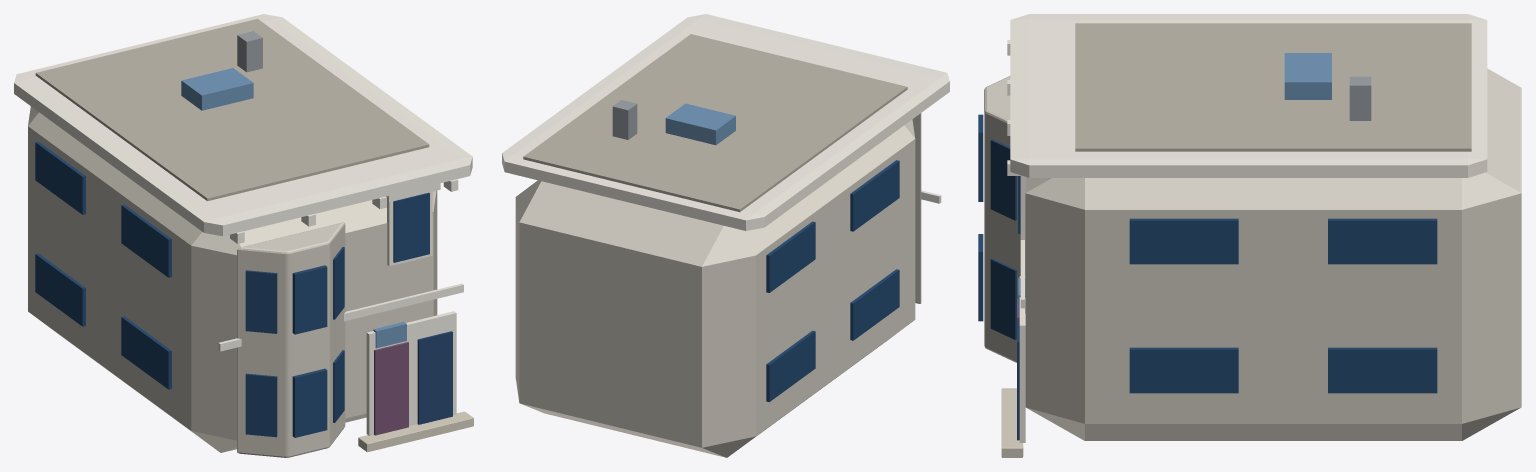
Rendered from edw_w7_f2.glb.
3 renders of one model, left to right at view 1: azimuth 30°, elevation 25°; view 2: azimuth 150°, elevation 25°; view 3: azimuth 270°, elevation 25°, orthographic. The views are drawn at different scales.
Parts seen in each view (by area): view 1: walls, roofslab, corn, bay, door.001, door, wgl, bw.001, bw, skylt, sb.002, sb (+13 smaller); view 2: walls, roofslab, corn, skylt, sb.004, sb.002, sb.006, sb, bay, pipe; view 3: walls, roofslab, corn, bay, sb.001, sb.003, sb.005, sb.007, skylt, bwa.001, bwa.003, lstep (+2 smaller).
Part boxes in pixels (box(x1,y1,x2,y2)): walls: box(28, 106, 437, 452); roofslab: box(35, 18, 429, 201); corn: box(14, 14, 472, 236); bay: box(237, 222, 345, 457); door.001: box(417, 331, 452, 424); door: box(374, 342, 408, 435); wgl: box(393, 192, 429, 262); bw.001: box(292, 265, 327, 334); bw: box(292, 368, 327, 437); skylt: box(181, 68, 253, 110); sb.002: box(35, 253, 85, 326); sb: box(121, 316, 171, 389); walls: box(515, 119, 915, 457); roofslab: box(523, 34, 907, 212); corn: box(502, 14, 949, 230); skylt: box(665, 103, 735, 145); sb.004: box(850, 160, 899, 231); sb.002: box(766, 330, 815, 402); sb.006: box(766, 221, 815, 292); sb: box(850, 269, 899, 340); bay: box(912, 113, 921, 303); pipe: box(612, 100, 637, 139); walls: box(1025, 68, 1521, 440); roofslab: box(1075, 23, 1471, 151); corn: box(1010, 14, 1487, 177); bay: box(984, 76, 1025, 362); sb.001: box(1129, 347, 1238, 393); sb.003: box(1328, 347, 1437, 393); sb.005: box(1129, 218, 1238, 264); sb.007: box(1328, 218, 1437, 264); skylt: box(1284, 53, 1331, 99); bwa.001: box(990, 258, 1016, 339); bwa.003: box(990, 139, 1016, 220); lstep: box(1001, 388, 1023, 457).
Size of the model in its own units: 8.3 by 8.65 by 12.59.
